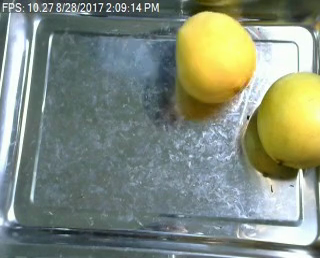Mango: (173, 12, 257, 103), (258, 71, 320, 168)
